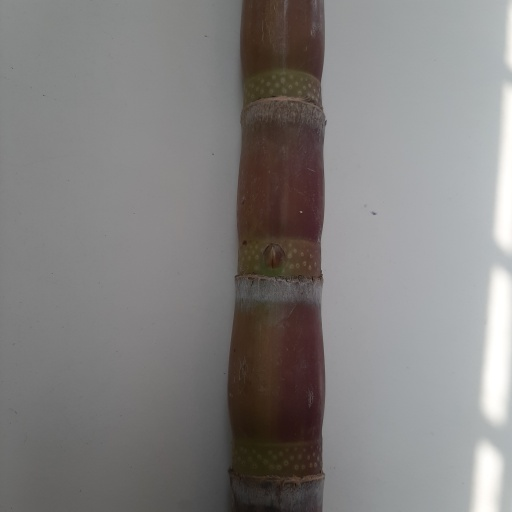Bud: (262, 243, 287, 273)
